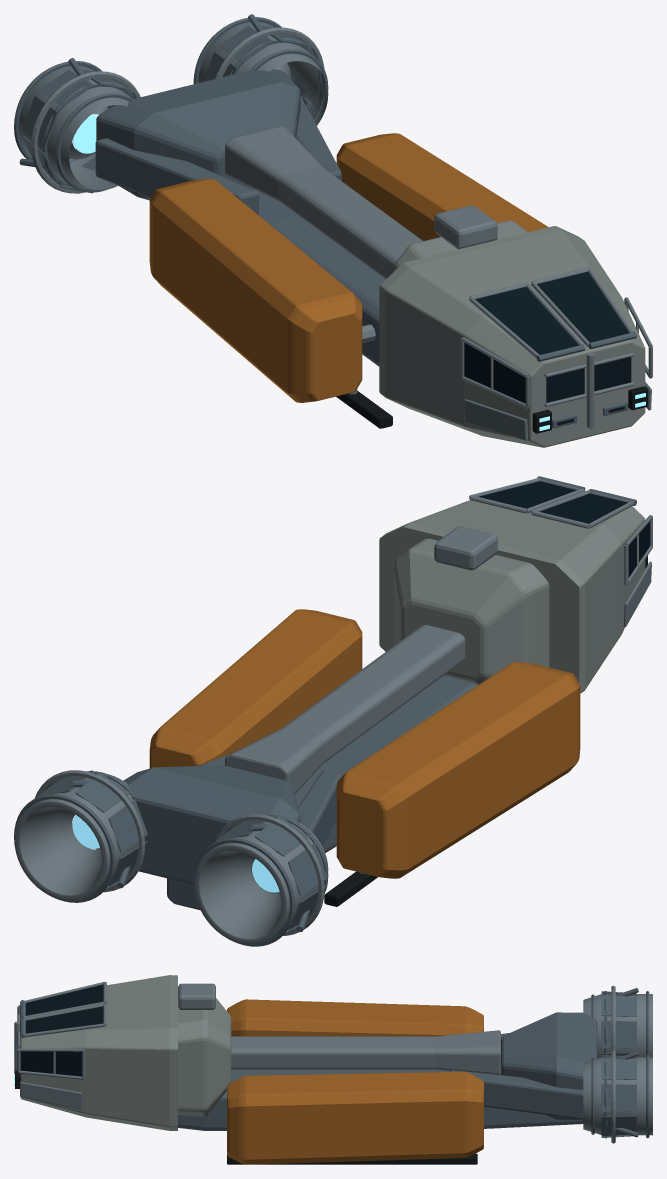
File: c07_option_a.glb
The picture shows the model from 3 angles, top to bottom: view 1: azimuth 30°, elevation 25°; view 2: azimuth 150°, elevation 25°; view 3: azimuth 270°, elevation 25°; orthographic projection. The views are drawn at different scales.
Parts seen in each view (by area): view 1: A_cargo_Study_2, A_cockpit_Study_0, A_structure_Study_1, A_structure_Study_4, A_cockpit_Study_3, A_propulsion_Study_4, A_cockpit_Study_4, A_propulsion_Study_1, A_cockpit_Study_1, A_structure_Study_7, A_propulsion_Study_5, A_cockpit_Study_7; view 2: A_cargo_Study_2, A_cockpit_Study_0, A_propulsion_Study_4, A_structure_Study_1, A_structure_Study_4, A_propulsion_Study_1, A_cockpit_Study_4, A_cockpit_Study_3, A_propulsion_Study_5, A_structure_Study_7; view 3: A_cargo_Study_2, A_cockpit_Study_0, A_structure_Study_1, A_structure_Study_4, A_propulsion_Study_1, A_propulsion_Study_4, A_cockpit_Study_4, A_cockpit_Study_3, A_structure_Study_7.
Boxes of the visible parts, x1,y1,x2,y2 form: A_cargo_Study_2: [149, 133, 548, 402]; A_cockpit_Study_0: [379, 220, 645, 447]; A_structure_Study_1: [95, 69, 385, 366]; A_structure_Study_4: [225, 126, 423, 394]; A_cockpit_Study_3: [464, 272, 631, 425]; A_propulsion_Study_4: [16, 22, 328, 193]; A_cockpit_Study_4: [434, 205, 652, 440]; A_propulsion_Study_1: [14, 14, 328, 193]; A_cockpit_Study_1: [536, 332, 636, 428]; A_structure_Study_7: [336, 391, 392, 428]; A_propulsion_Study_5: [72, 115, 98, 153]; A_cockpit_Study_7: [532, 386, 647, 433]; A_cargo_Study_2: [149, 609, 580, 878]; A_cockpit_Study_0: [379, 500, 645, 693]; A_propulsion_Study_4: [14, 770, 328, 944]; A_structure_Study_1: [96, 676, 477, 910]; A_structure_Study_4: [225, 625, 465, 873]; A_propulsion_Study_1: [14, 770, 328, 946]; A_cockpit_Study_4: [434, 478, 652, 626]; A_cockpit_Study_3: [478, 481, 650, 577]; A_propulsion_Study_5: [72, 815, 279, 892]; A_structure_Study_7: [324, 871, 377, 906]; A_cargo_Study_2: [227, 999, 483, 1164]; A_cockpit_Study_0: [20, 975, 231, 1130]; A_structure_Study_1: [178, 1012, 597, 1130]; A_structure_Study_4: [231, 1030, 500, 1074]; A_propulsion_Study_1: [591, 988, 649, 1138]; A_propulsion_Study_4: [583, 985, 652, 1143]; A_cockpit_Study_4: [14, 981, 215, 1109]; A_cockpit_Study_3: [20, 984, 103, 1076]; A_structure_Study_7: [227, 1153, 477, 1164].
Bounding box in the file's own units: 11.44 × 7.87 × 29.86.
